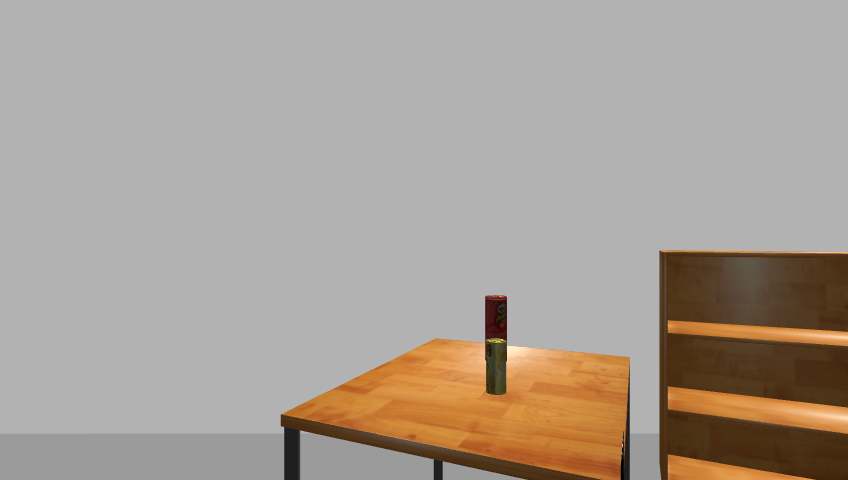biscuits pack: (484, 339, 508, 396)
bookshelf: (654, 249, 848, 479)
dinner table: (276, 339, 639, 480)
pringles can: (482, 293, 509, 380)
